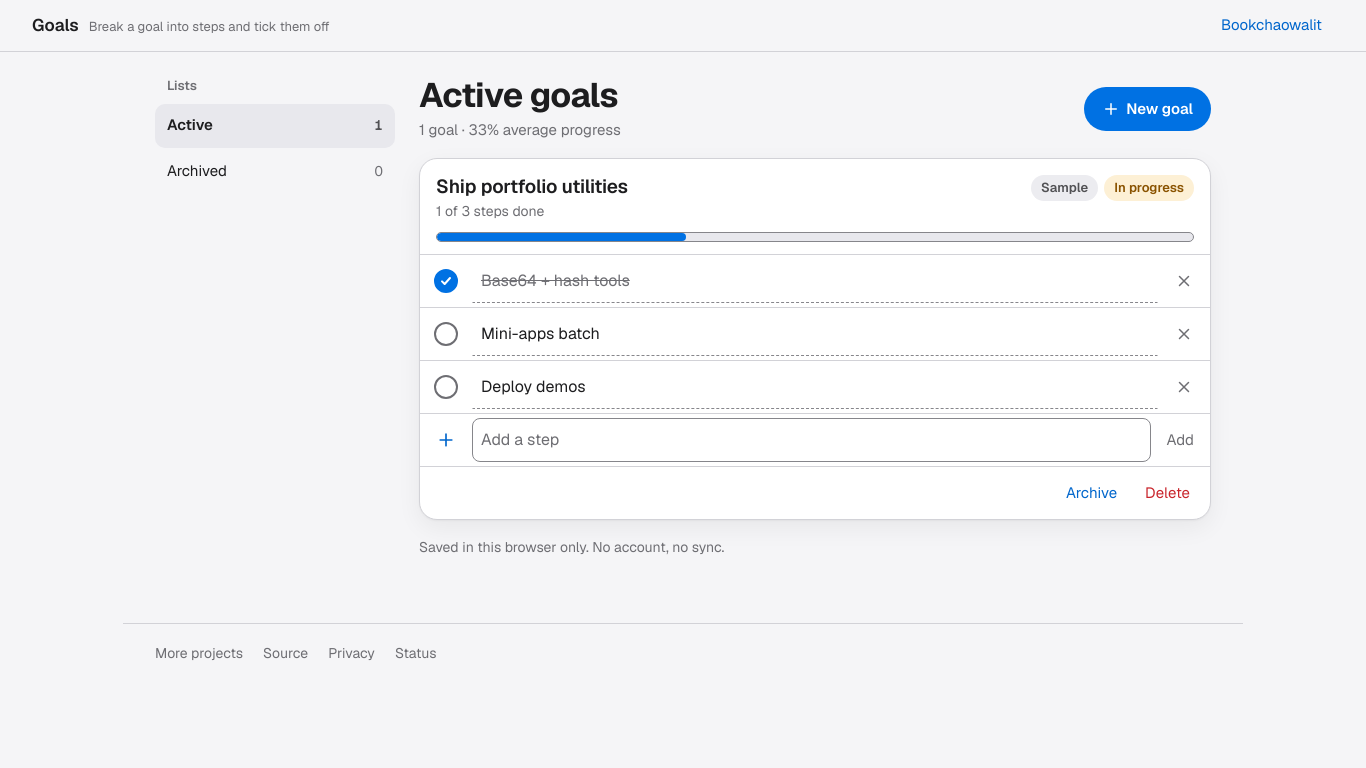
undo order and stored ids › Undo keeps a step pending while its goal is gone (deleted in another tab) and restores it once the goal is back
Click the button named "Remove step Mini-apps batch".
click(1184, 334)  # box [1162, 312, 1206, 356]
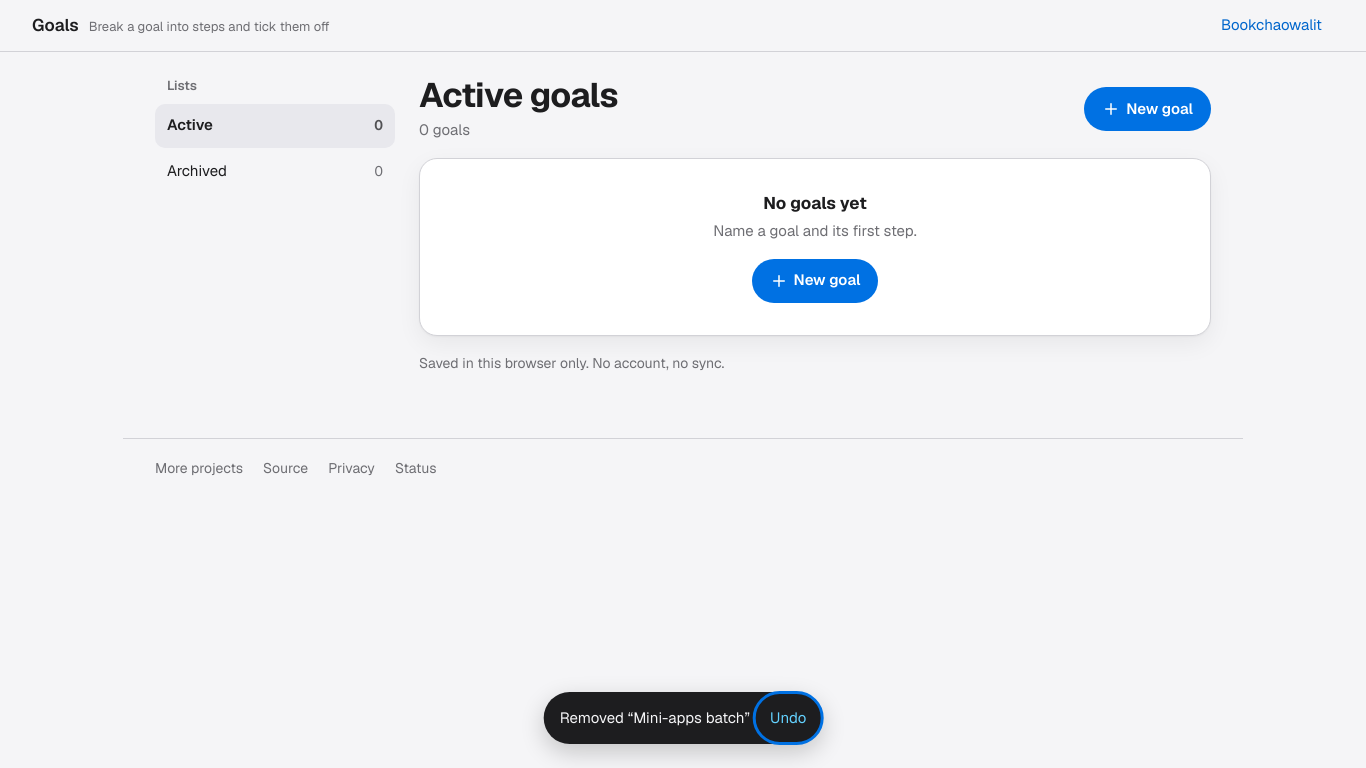
Click the button "Undo".
click(788, 718)  # box [758, 696, 818, 740]
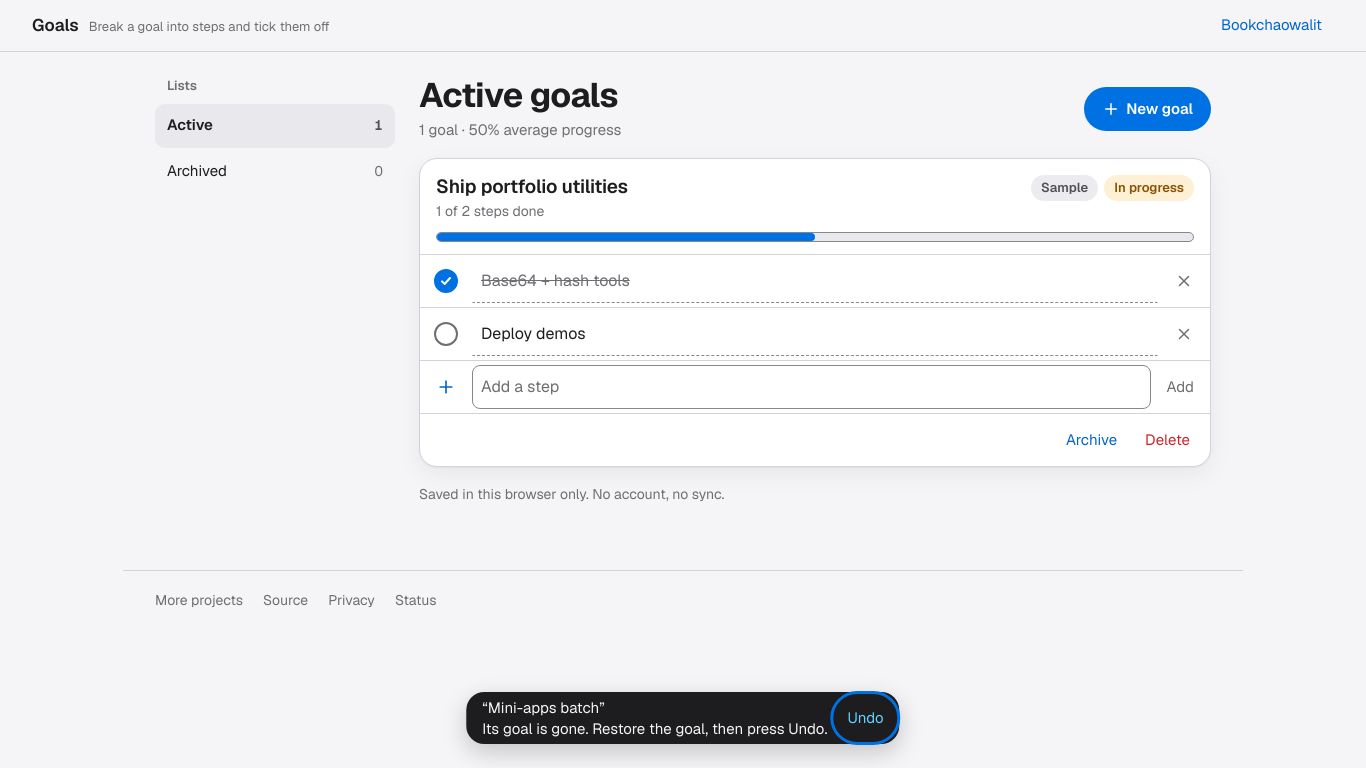
Expected: the element with class "as-toast" is shown, [466, 692, 900, 744]
Expected: the button "Undo" is shown
Expected: the element that starts with "Mini-apps batch" reads "“Mini-apps batch” Its goal is gone. Restore the goal, then press Undo.", [482, 697, 828, 739]
Click the button "Undo".
click(866, 718)  # box [836, 696, 896, 740]
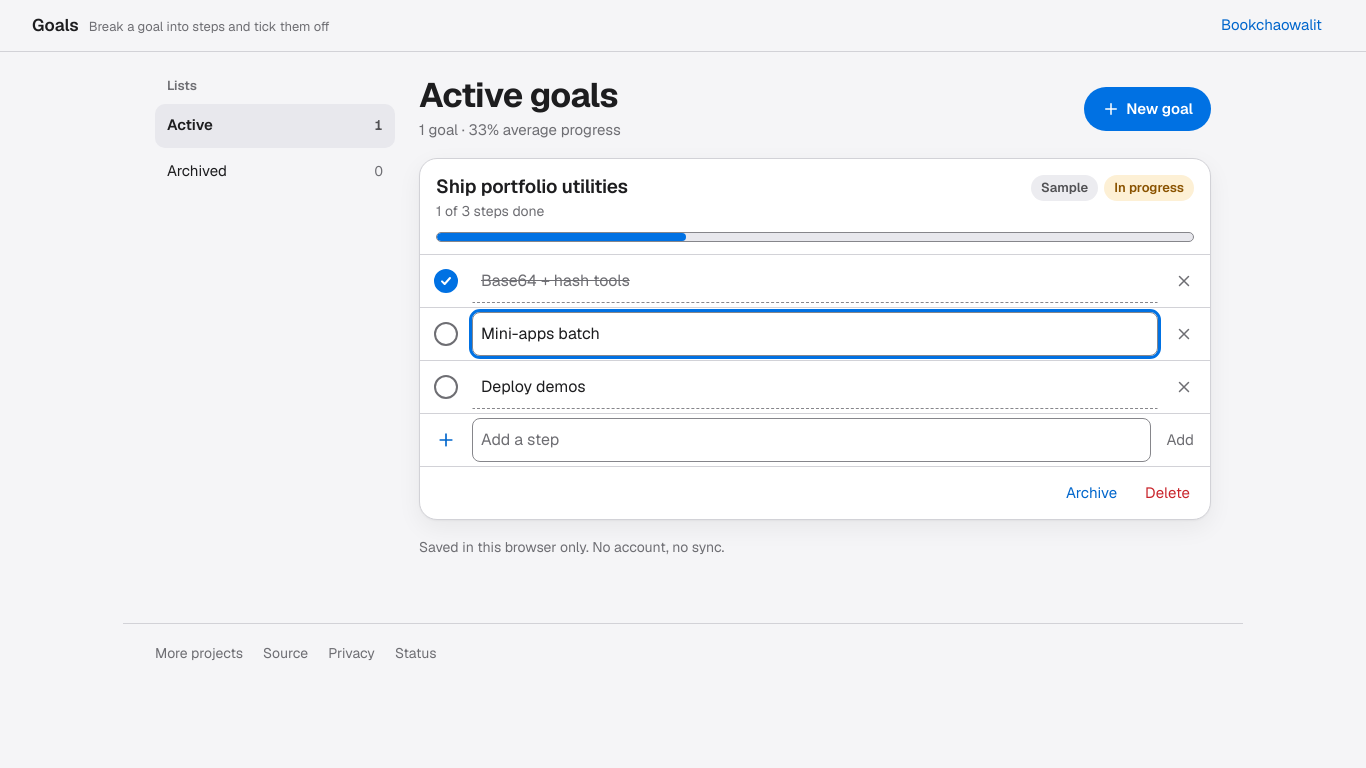
Expected: the element with class "as-toast" is gone
